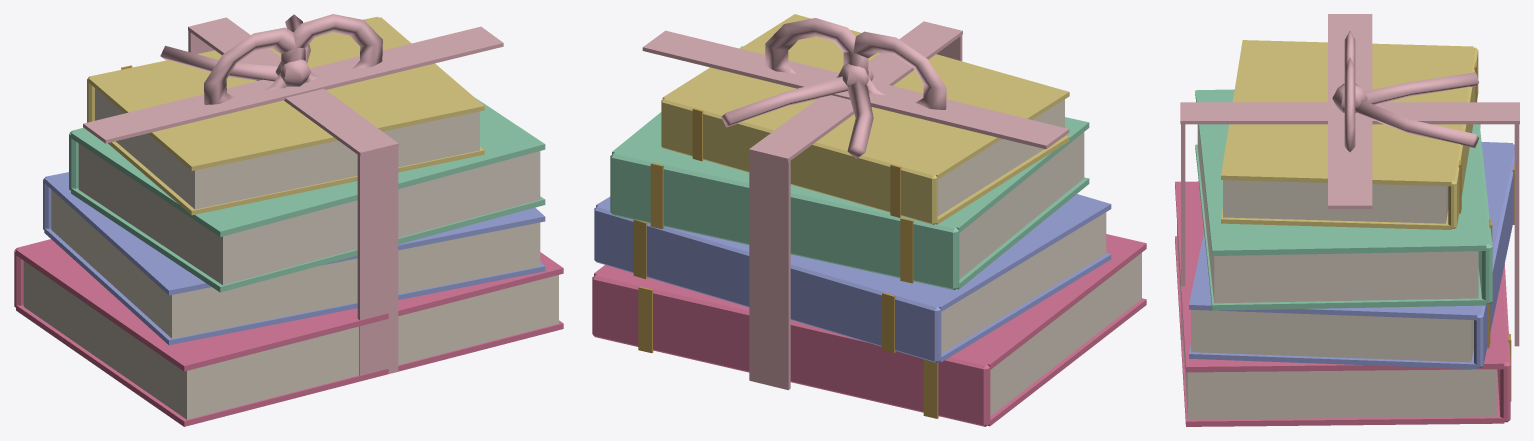
The model's file is book_pile_ribbon.glb.
3 renders of one model, left to right at view 1: azimuth 30°, elevation 25°; view 2: azimuth 150°, elevation 25°; view 3: azimuth 270°, elevation 25°, orthographic. The views are drawn at different scales.
Parts seen in each view (by area): view 1: book_pile_ribbon; view 2: book_pile_ribbon; view 3: book_pile_ribbon.
Part boxes in pixels (box(x1,y1,x2,y2)): book_pile_ribbon: box(14, 14, 563, 426); book_pile_ribbon: box(592, 14, 1146, 426); book_pile_ribbon: box(1175, 14, 1519, 426).
Size of what is drawn, in the model's own units: 0.32 by 0.22 by 0.24.
